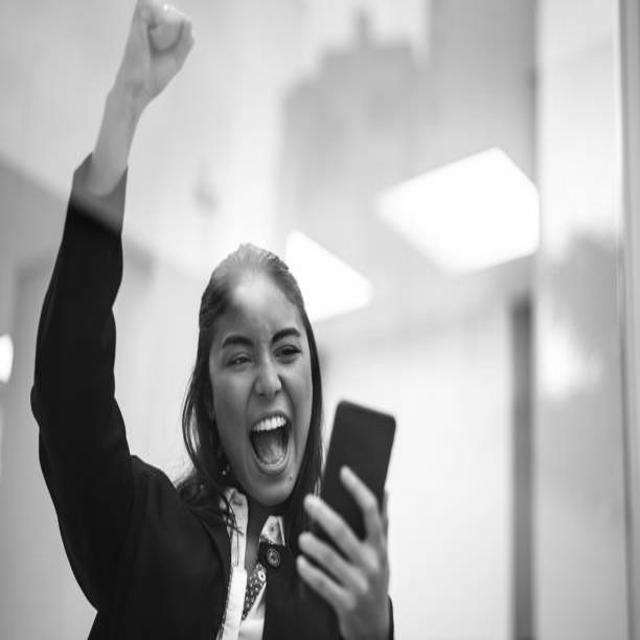Happiness: (213, 281, 308, 493)
